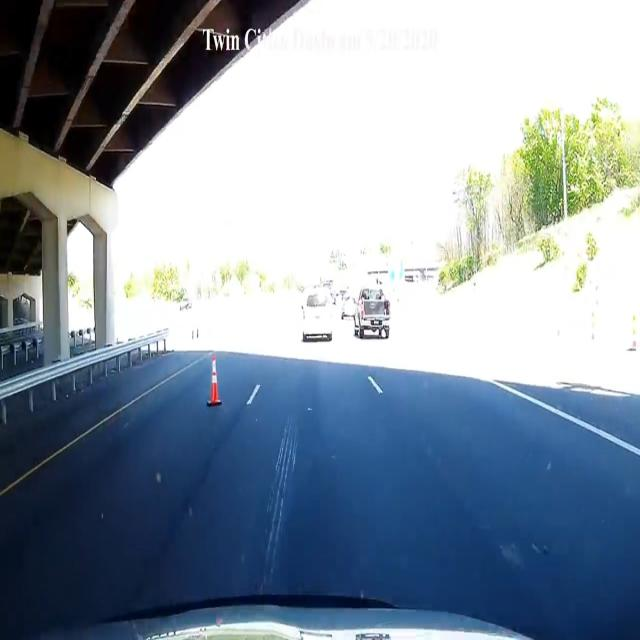Traffic Cone: (207, 358, 225, 409)
